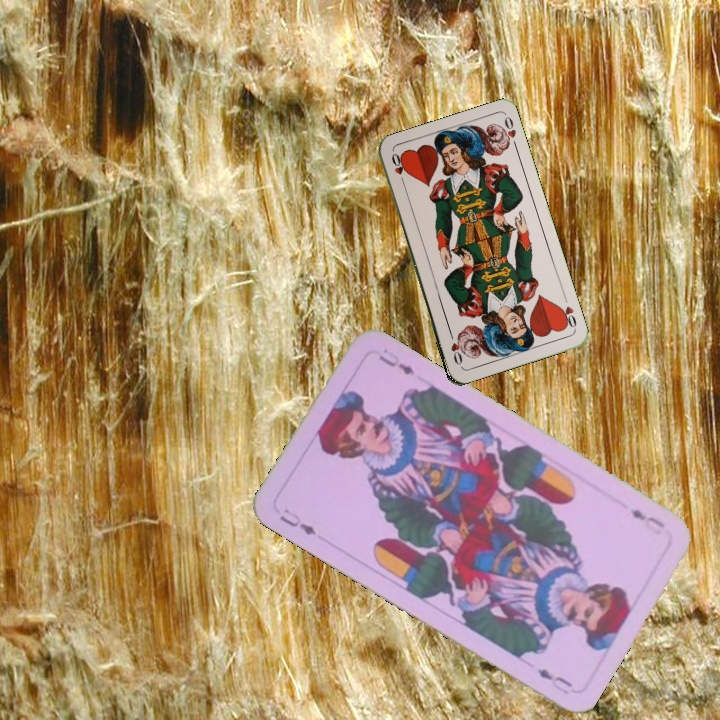EU: (276, 504, 320, 538), (626, 504, 668, 538)
HO: (555, 292, 579, 332), (387, 149, 408, 188)
